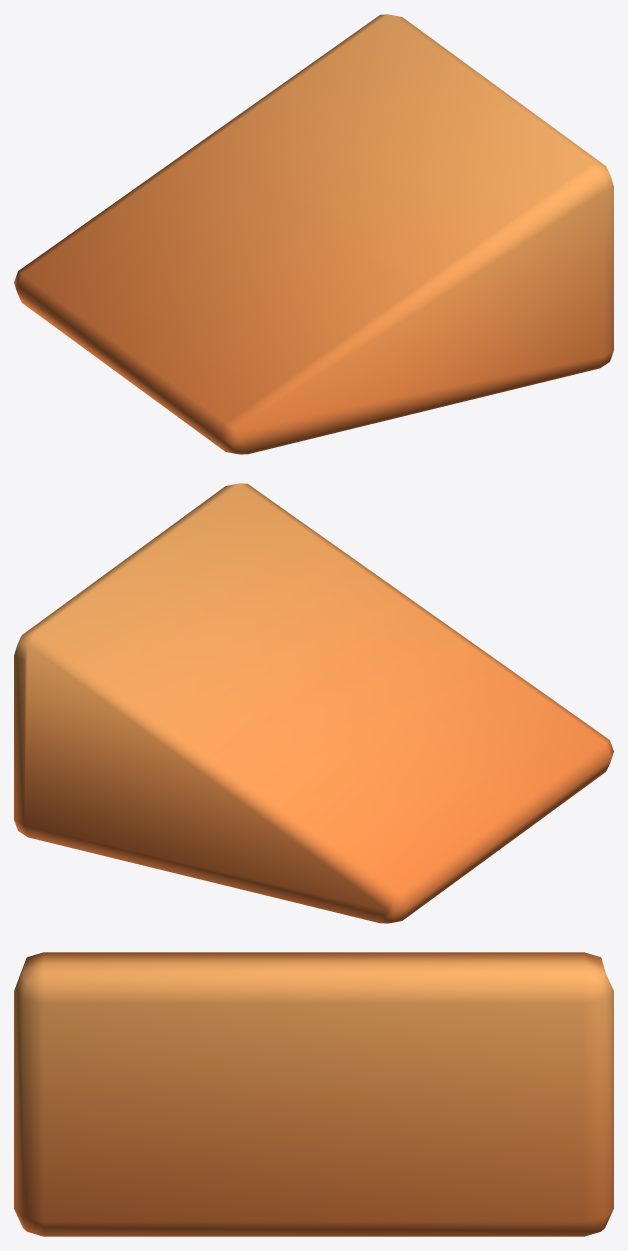
Rendered from 3D_Tile_Ground_Slope_02B.glb.
3 renders of one model, top to bottom at view 1: azimuth 30°, elevation 25°; view 2: azimuth 150°, elevation 25°; view 3: azimuth 270°, elevation 25°, orthographic. The views are drawn at different scales.
Visible parts, largest first — view 1: 3D_Tile_Ground_Slope_02B; view 2: 3D_Tile_Ground_Slope_02B; view 3: 3D_Tile_Ground_Slope_02B.
Part boxes in pixels (x1,y1,x2,y2): 3D_Tile_Ground_Slope_02B: (14, 14, 613, 454); 3D_Tile_Ground_Slope_02B: (14, 483, 613, 923); 3D_Tile_Ground_Slope_02B: (14, 952, 613, 1236).
Size of the model in its own units: 2 by 1 by 2.
1 material, 1 textured.
